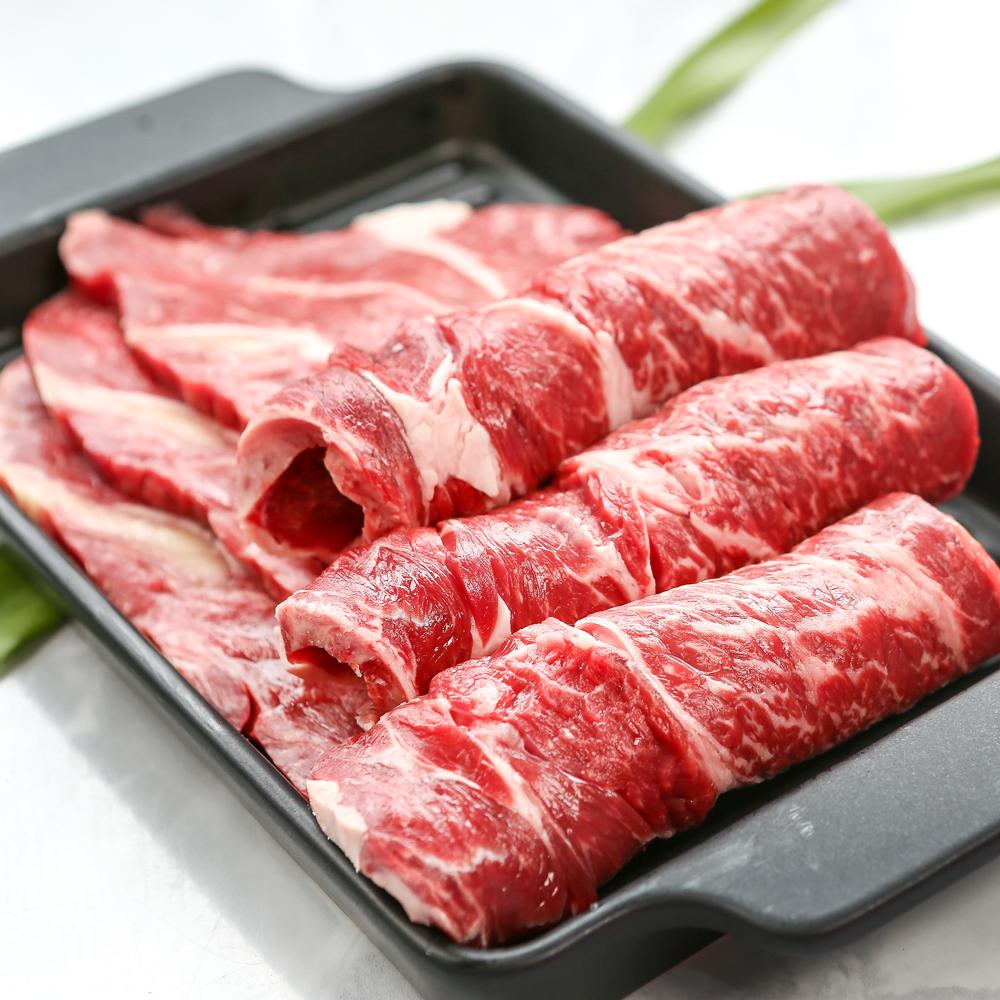beef: (441, 511, 864, 1000), (798, 461, 1000, 867), (834, 817, 1000, 1000)
